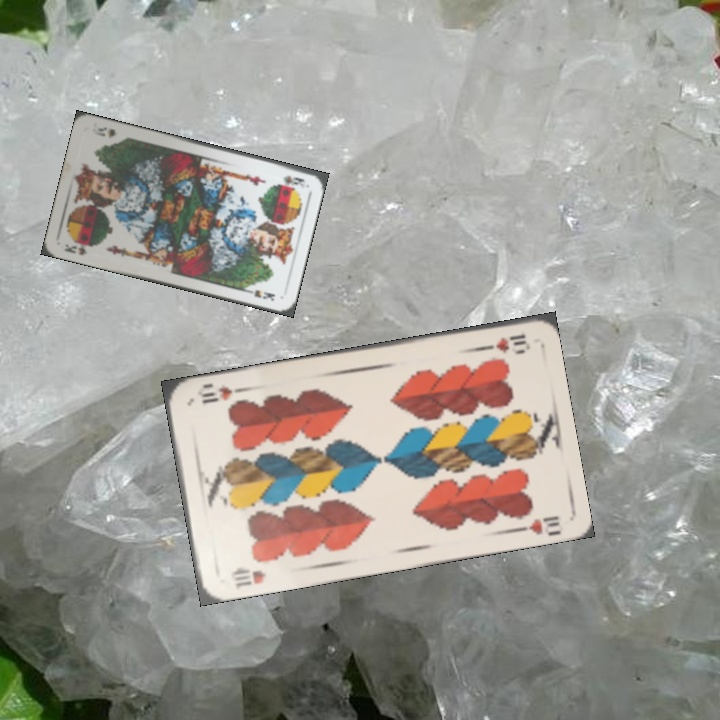H10: (474, 330, 533, 355), (226, 563, 269, 591)
SK: (60, 237, 95, 258), (279, 171, 308, 191)
